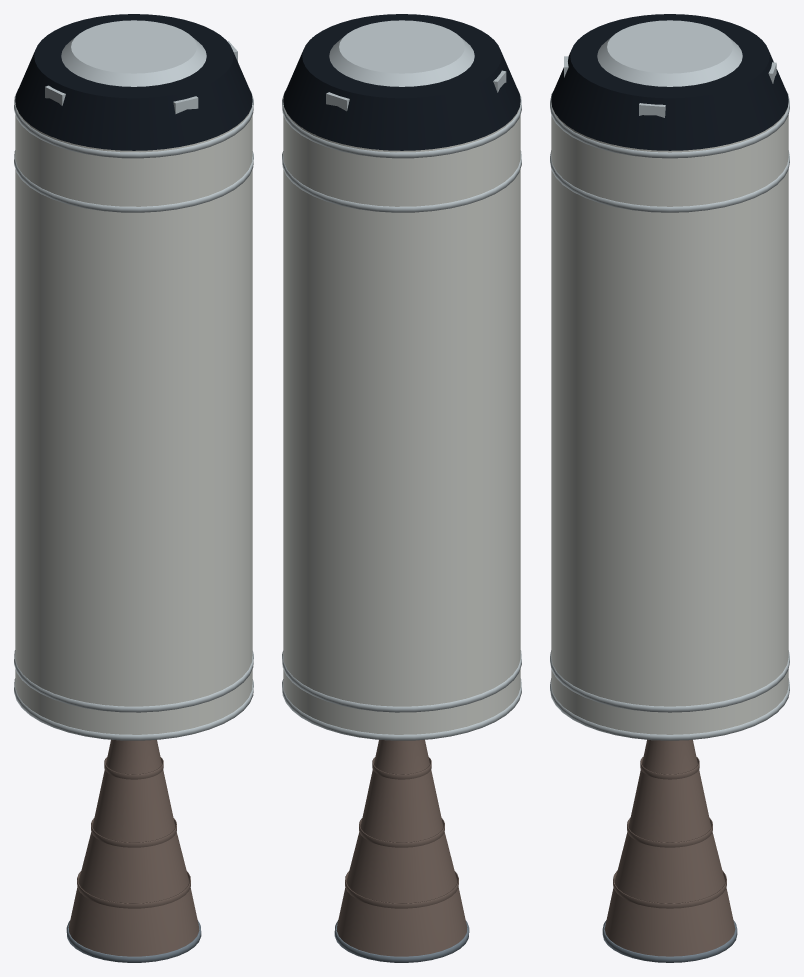
The model's file is atlas_v_centaur.glb.
3 renders of one model, left to right at view 1: azimuth 30°, elevation 25°; view 2: azimuth 150°, elevation 25°; view 3: azimuth 270°, elevation 25°, orthographic.
Visible parts, largest first — view 1: atlas_v_centaur.mesh_Pale_thermal_blanket, atlas_v_centaur.rl10_01.bell.mesh_Heat-stained_alloy, atlas_v_centaur.equipment_deck.mesh_Shadowed_interior, atlas_v_centaur.payload_adapter.mesh_Satin_aluminum, atlas_v_centaur.mesh_Satin_aluminum, atlas_v_centaur.rl10_01.bell.mesh_Machined_steel, atlas_v_centaur.equipment_deck.mesh_Satin_aluminum; view 2: atlas_v_centaur.mesh_Pale_thermal_blanket, atlas_v_centaur.rl10_01.bell.mesh_Heat-stained_alloy, atlas_v_centaur.equipment_deck.mesh_Shadowed_interior, atlas_v_centaur.payload_adapter.mesh_Satin_aluminum, atlas_v_centaur.mesh_Satin_aluminum, atlas_v_centaur.rl10_01.bell.mesh_Machined_steel; view 3: atlas_v_centaur.mesh_Pale_thermal_blanket, atlas_v_centaur.rl10_01.bell.mesh_Heat-stained_alloy, atlas_v_centaur.equipment_deck.mesh_Shadowed_interior, atlas_v_centaur.payload_adapter.mesh_Satin_aluminum, atlas_v_centaur.mesh_Satin_aluminum, atlas_v_centaur.rl10_01.bell.mesh_Machined_steel, atlas_v_centaur.equipment_deck.mesh_Satin_aluminum.
Part boxes in pixels (x1,y1,x2,y2): atlas_v_centaur.mesh_Pale_thermal_blanket: [15, 95, 252, 734]; atlas_v_centaur.rl10_01.bell.mesh_Heat-stained_alloy: [68, 739, 199, 956]; atlas_v_centaur.equipment_deck.mesh_Shadowed_interior: [15, 14, 252, 150]; atlas_v_centaur.payload_adapter.mesh_Satin_aluminum: [61, 20, 206, 86]; atlas_v_centaur.mesh_Satin_aluminum: [14, 89, 253, 740]; atlas_v_centaur.rl10_01.bell.mesh_Machined_steel: [66, 920, 201, 962]; atlas_v_centaur.equipment_deck.mesh_Satin_aluminum: [45, 41, 237, 113]; atlas_v_centaur.mesh_Pale_thermal_blanket: [283, 95, 520, 734]; atlas_v_centaur.rl10_01.bell.mesh_Heat-stained_alloy: [336, 739, 467, 956]; atlas_v_centaur.equipment_deck.mesh_Shadowed_interior: [283, 14, 520, 150]; atlas_v_centaur.payload_adapter.mesh_Satin_aluminum: [329, 20, 474, 86]; atlas_v_centaur.mesh_Satin_aluminum: [282, 89, 521, 740]; atlas_v_centaur.rl10_01.bell.mesh_Machined_steel: [334, 920, 469, 962]; atlas_v_centaur.mesh_Pale_thermal_blanket: [551, 103, 788, 734]; atlas_v_centaur.rl10_01.bell.mesh_Heat-stained_alloy: [604, 739, 735, 956]; atlas_v_centaur.equipment_deck.mesh_Shadowed_interior: [551, 14, 788, 150]; atlas_v_centaur.payload_adapter.mesh_Satin_aluminum: [597, 20, 742, 86]; atlas_v_centaur.mesh_Satin_aluminum: [550, 91, 789, 740]; atlas_v_centaur.rl10_01.bell.mesh_Machined_steel: [602, 920, 737, 962]; atlas_v_centaur.equipment_deck.mesh_Satin_aluminum: [564, 56, 776, 117].
Bounding box in the file's own units: 3.08 × 12.57 × 3.08.
